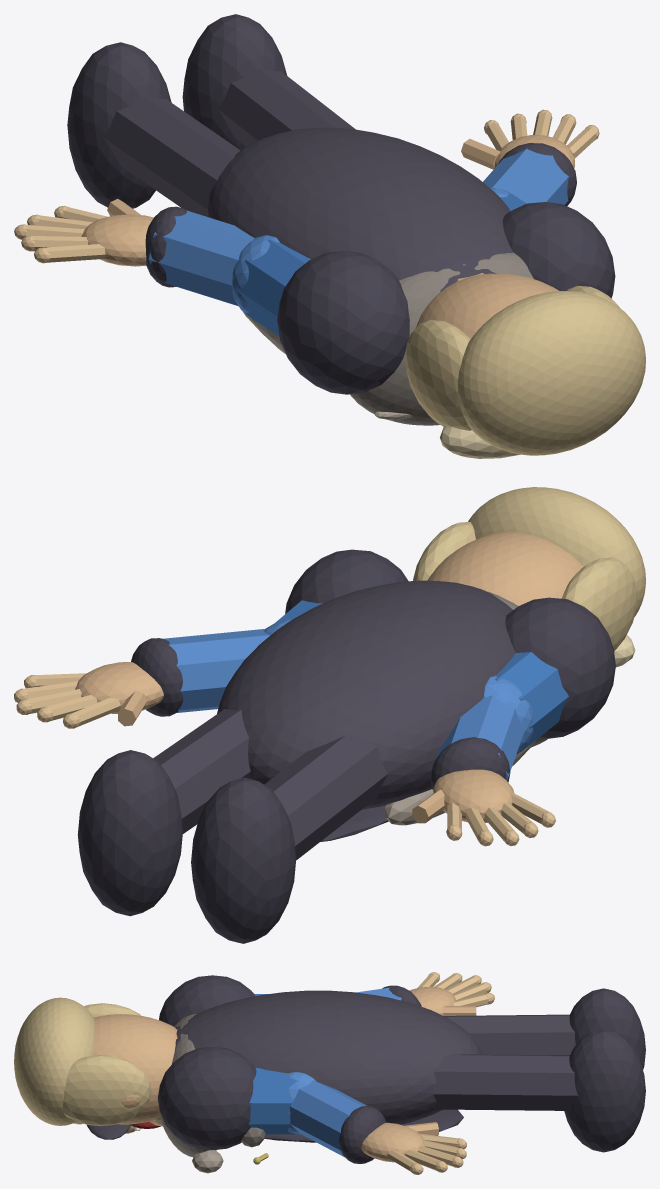
Rendered from perc.glb.
3 views of the same model, one above another, from view 1: azimuth 30°, elevation 25°; view 2: azimuth 150°, elevation 25°; view 3: azimuth 270°, elevation 25° (orthographic). The views are drawn at different scales.
Visible parts, largest first — view 1: long black tunic, blond hair cap, left shoulder, second dark boot, second trouser leg, right shoulder, dark boot, trouser leg, L blue forearm, hair side left, large fur scarf, face (+10 smaller); view 2: long black tunic, dark boot, second dark boot, left shoulder, blond hair cap, second trouser leg, face, trouser leg, R blue forearm, right shoulder, hair side left, L blue upper sleeve (+12 smaller); view 3: long black tunic, right shoulder, trouser leg, dark boot, blond hair cap, hair side right, face, second trouser leg, R blue forearm, second dark boot, left shoulder, R blue upper sleeve (+18 smaller).
Boxes of the visible parts, x1,y1,x2,y2 form: long black tunic: [207, 127, 513, 291]; blond hair cap: [457, 290, 645, 455]; left shoulder: [277, 251, 409, 394]; second dark boot: [67, 42, 171, 208]; second trouser leg: [103, 96, 240, 216]; right shoulder: [502, 202, 615, 298]; dark boot: [182, 14, 287, 150]; trouser leg: [218, 68, 355, 146]; L blue forearm: [148, 210, 254, 306]; hair side left: [405, 320, 471, 430]; large fur scarf: [350, 252, 533, 425]; face: [416, 273, 558, 339]; long black tunic: [217, 580, 515, 809]; dark boot: [77, 750, 182, 916]; second dark boot: [191, 777, 296, 943]; left shoulder: [505, 597, 615, 738]; blond hair cap: [468, 487, 645, 616]; second trouser leg: [264, 735, 387, 860]; face: [427, 532, 583, 605]; trouser leg: [153, 709, 250, 833]; R blue forearm: [163, 629, 269, 712]; right shoulder: [285, 549, 408, 613]; hair side left: [562, 557, 637, 651]; L blue upper sleeve: [495, 652, 568, 751]; long black tunic: [175, 990, 481, 1134]; right shoulder: [157, 1047, 256, 1150]; trouser leg: [434, 1054, 578, 1110]; dark boot: [564, 1029, 645, 1152]; blond hair cap: [14, 997, 94, 1125]; hair side right: [63, 1055, 151, 1126]; face: [93, 1014, 175, 1124]; second trouser leg: [444, 1014, 575, 1055]; R blue forearm: [289, 1080, 366, 1157]; second dark boot: [569, 988, 645, 1069]; left shoulder: [159, 975, 254, 1026]; R blue upper sleeve: [248, 1068, 299, 1134].
Bounding box in the file's own units: 2.2 × 0.73 × 2.99.
